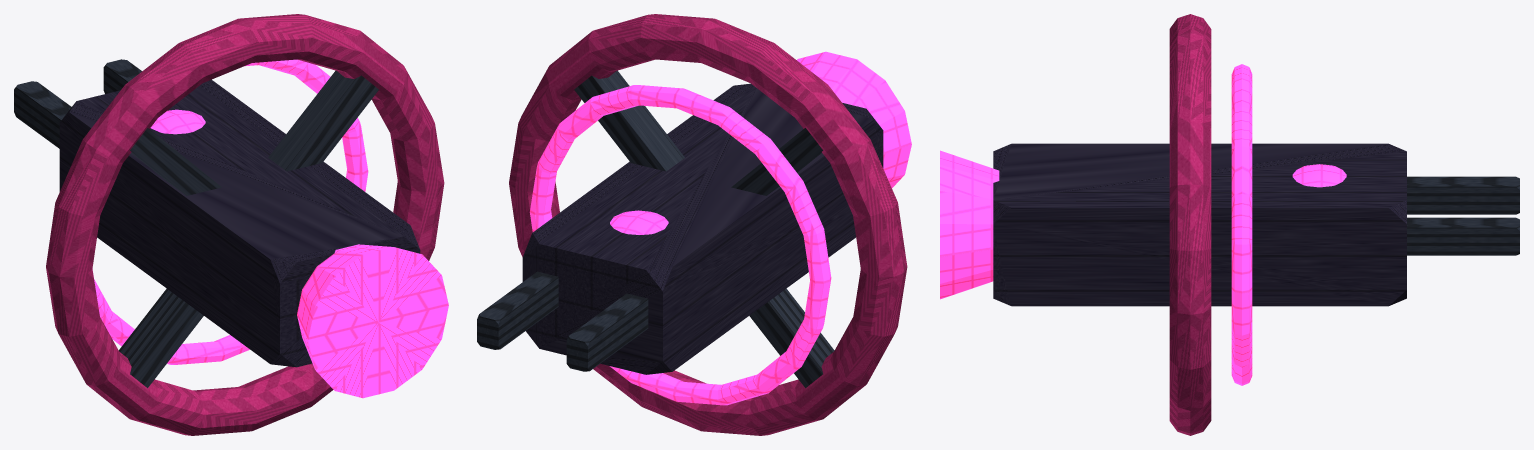
Rendered from enemy_void_sentinel.glb.
3 renders of one model, left to right at view 1: azimuth 30°, elevation 25°; view 2: azimuth 150°, elevation 25°; view 3: azimuth 270°, elevation 25°, orthographic. The views are drawn at different scales.
Parts seen in each view (by area): view 1: enemy_void_sentinel; view 2: enemy_void_sentinel; view 3: enemy_void_sentinel.
Boxes of the visible parts, x1,y1,x2,y2 form: enemy_void_sentinel: [14, 14, 448, 435]; enemy_void_sentinel: [477, 14, 911, 435]; enemy_void_sentinel: [940, 14, 1519, 435].
Size of the model in its own units: 6.58 by 6.58 by 8.97.
1 material, 1 textured.
